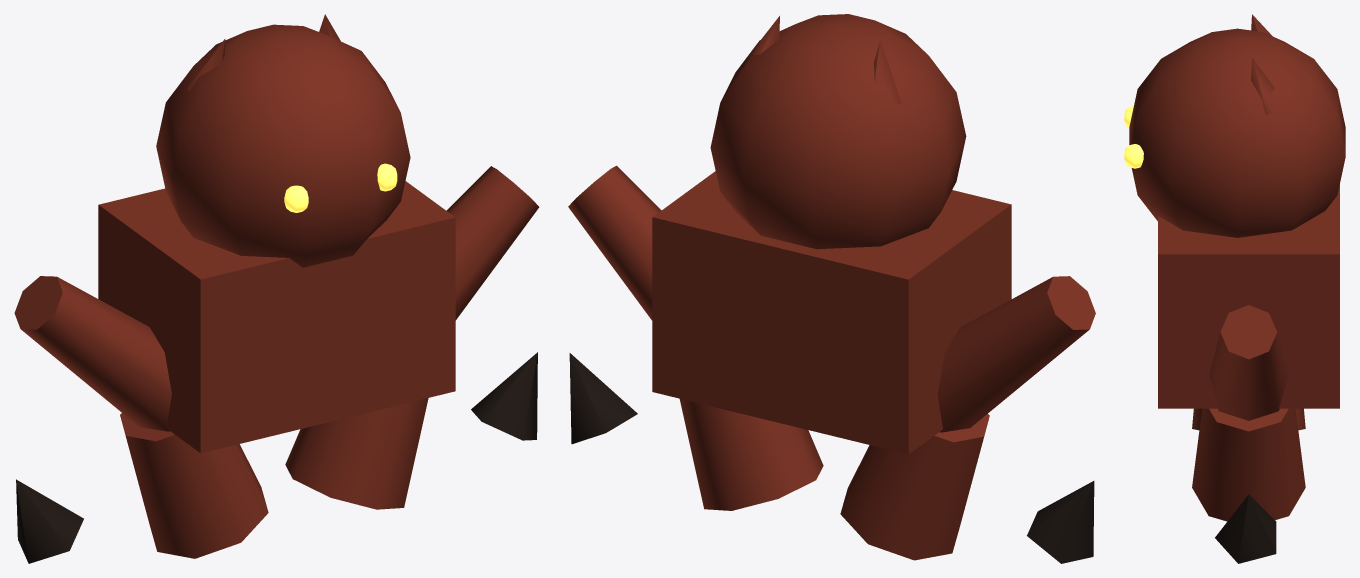
Rendered from demon.glb.
The picture shows the model from 3 angles, left to right: view 1: azimuth 30°, elevation 25°; view 2: azimuth 150°, elevation 25°; view 3: azimuth 270°, elevation 25°; orthographic projection. The views are drawn at different scales.
Bounding box in the file's own units: 0.9423 × 0.8544 × 0.3893.
